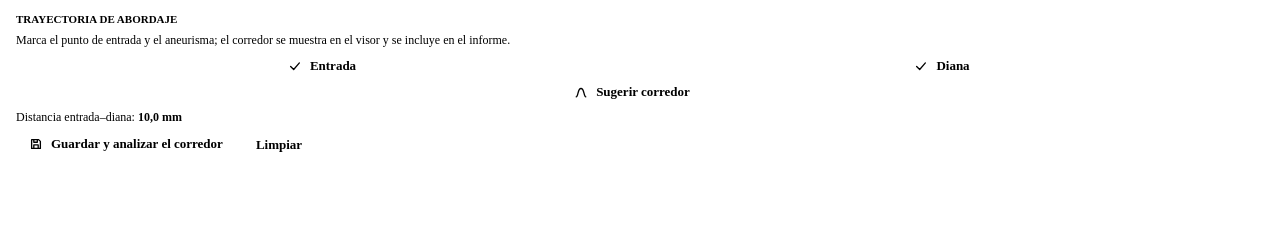
TrajectoryTool · «Sugerir corredor» que falla › sin respuesta del servidor dice que no responde y que se marque a mano
The image size is (1265, 248).
Step 1. Click the button "Sugerir corredor" → point(632, 92), box [16,84,1248,100]
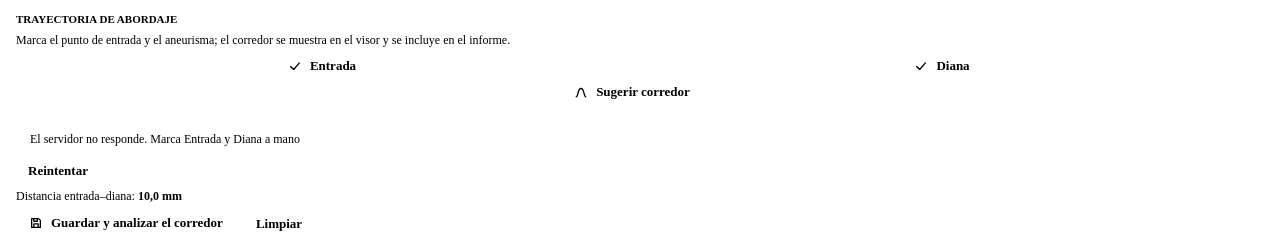
Check: the text "El servidor no responde. Marca Entrada y Diana a mano" is shown, box [30,132,300,146]
Check: the button "Reintentar" is shown, box [16,163,100,179]
